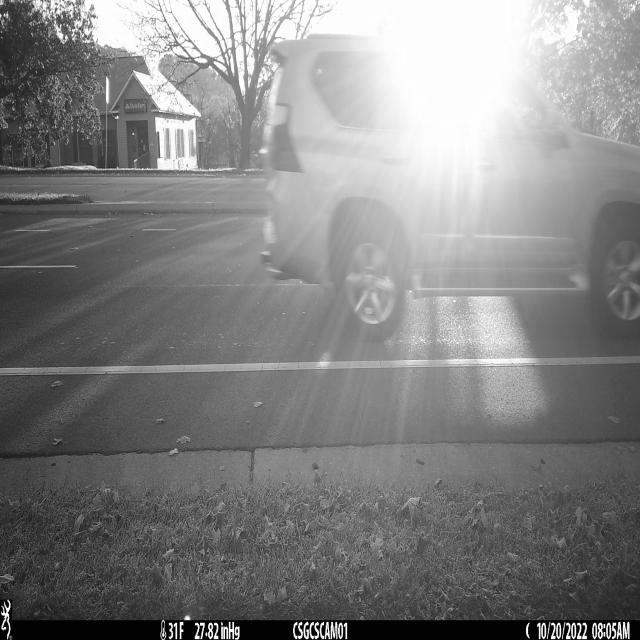SUV: (259, 35, 640, 344)
